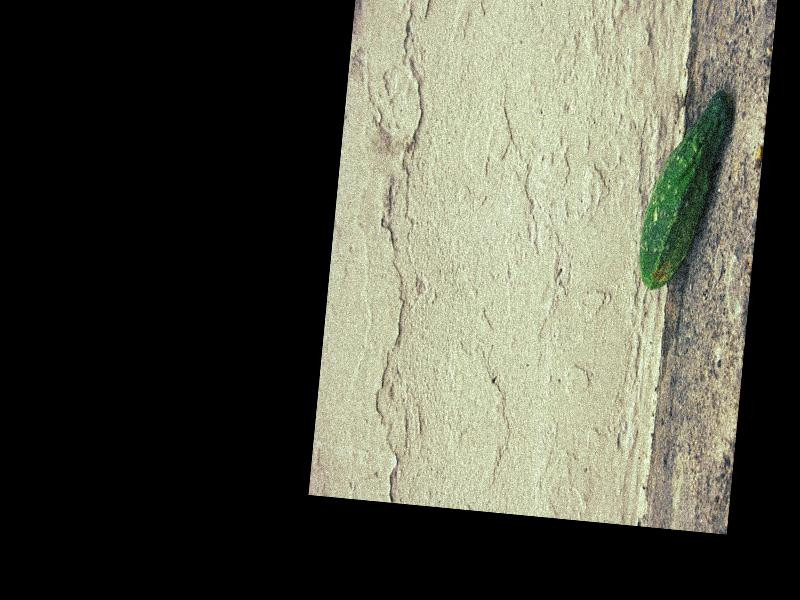Cucumber: (635, 87, 733, 295)
